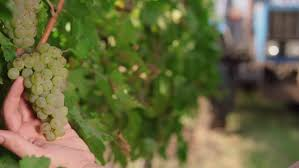grapes: (6, 13, 75, 147)
